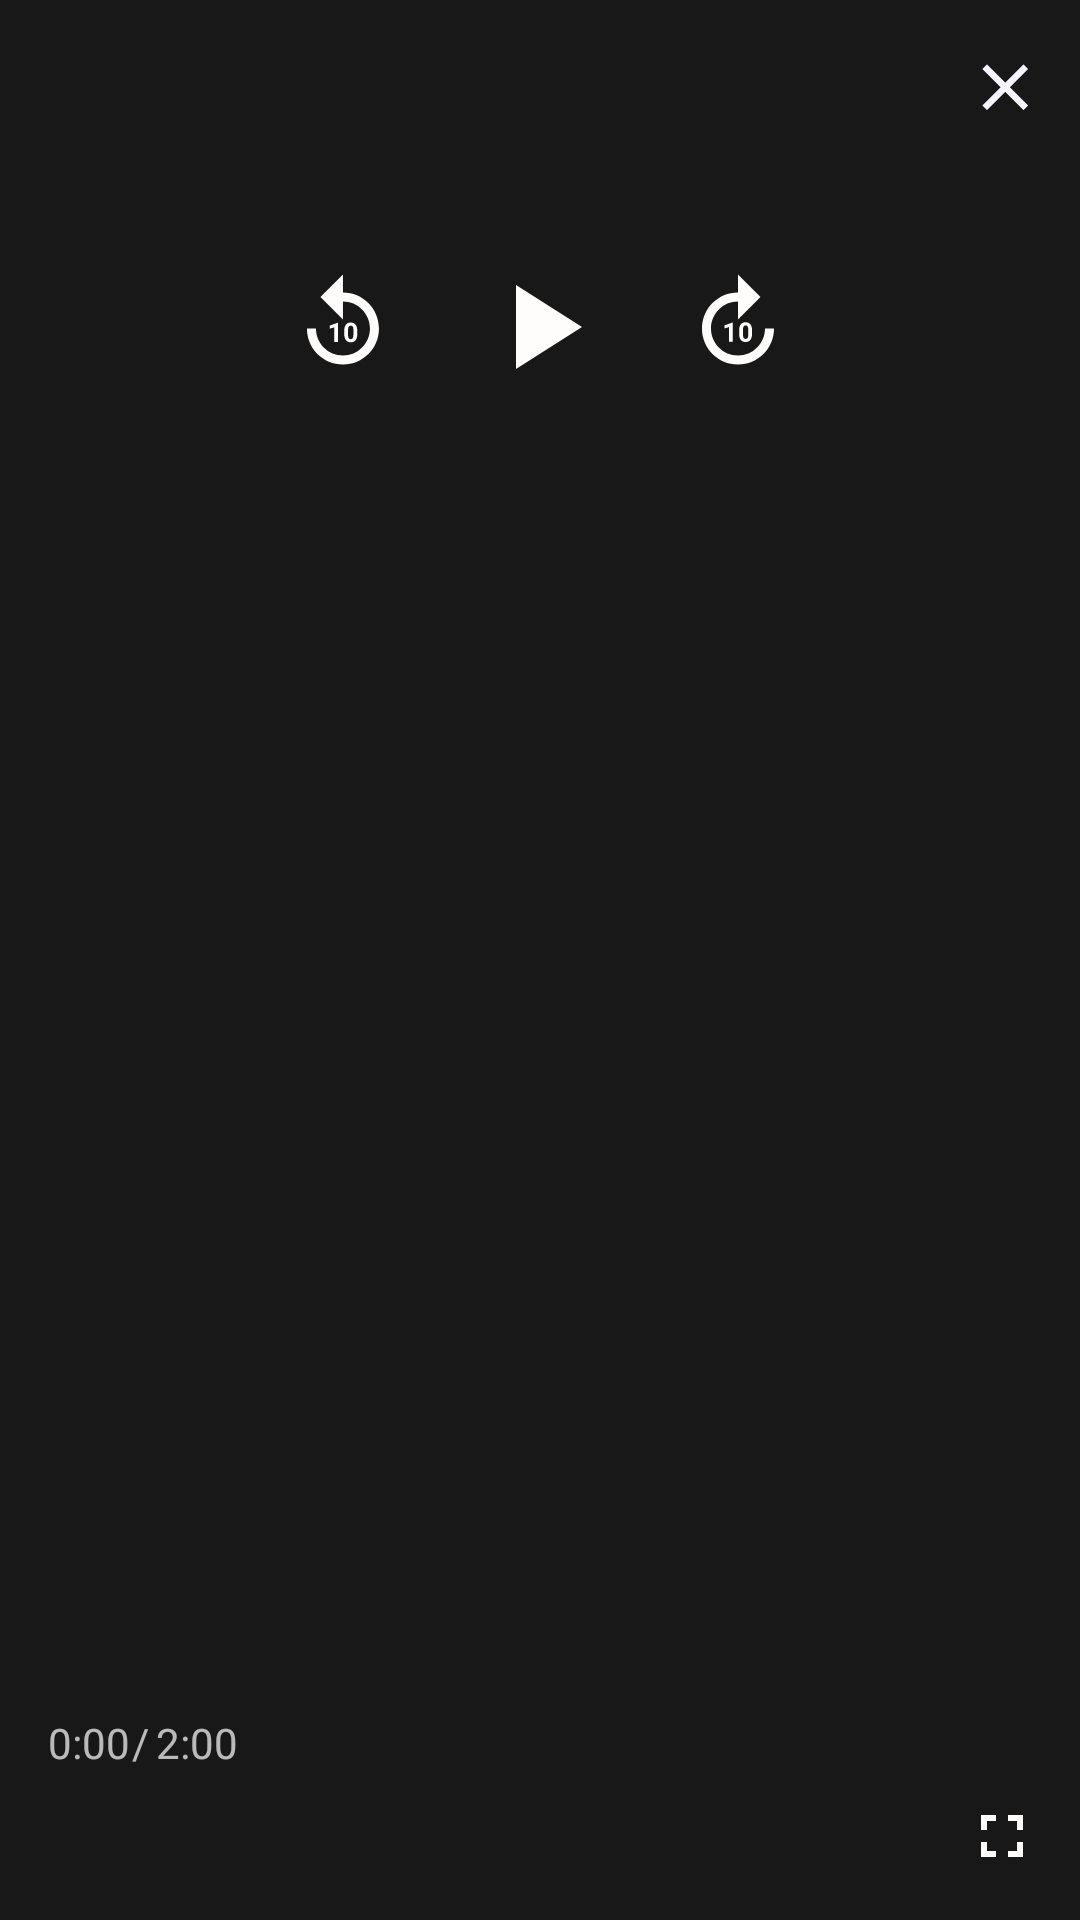

Icons on this 1080x1920 Android screen, each with the point to tap as point (x, y):
close: point (1005, 87)
forward: point (738, 319)
fullscreen: point (1002, 1836)
play: point (549, 327)
replay: point (343, 319)
